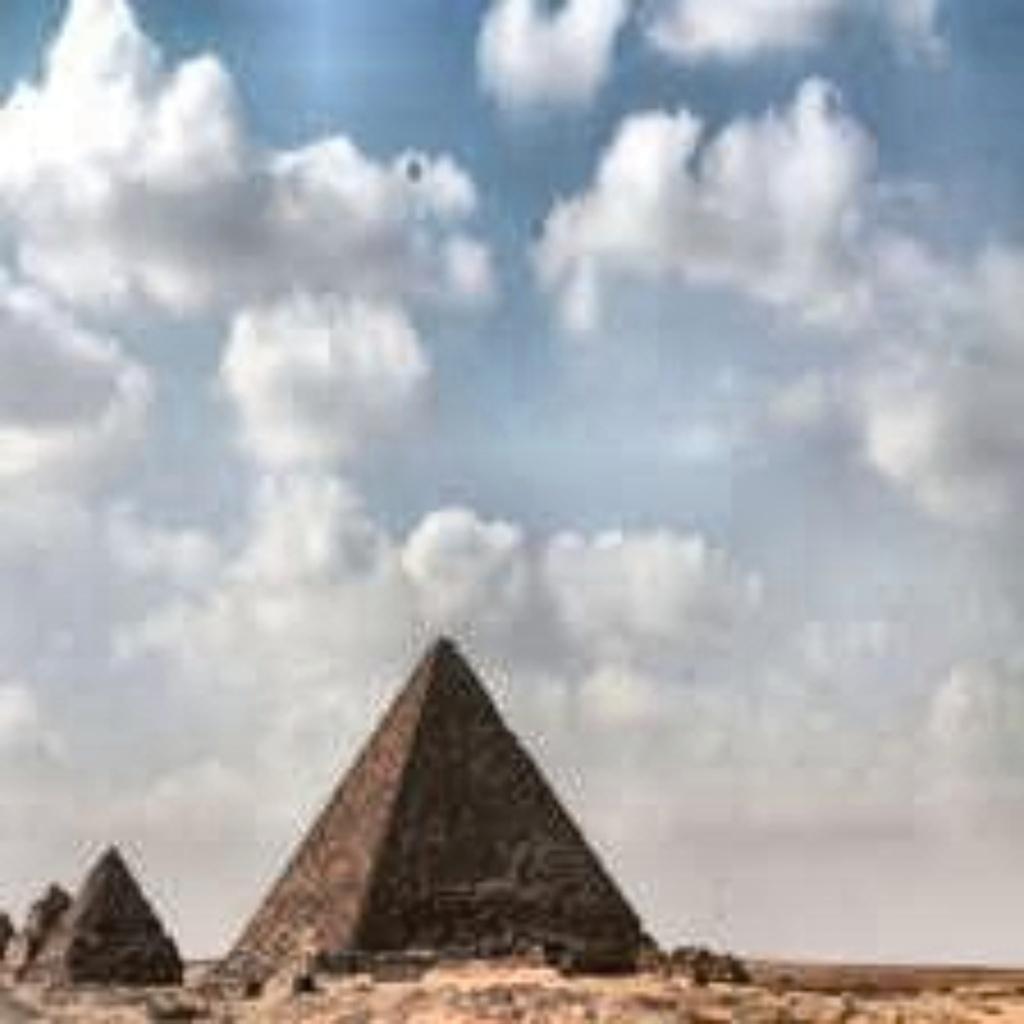Great Pyramids of Giza: (210, 631, 658, 983)
